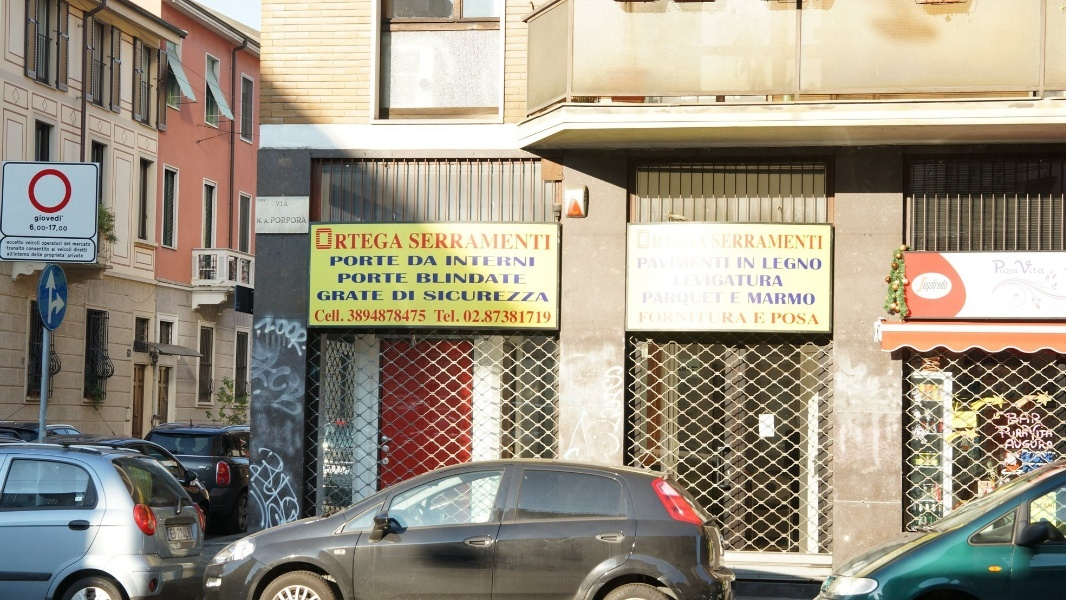text: (257, 426, 272, 549), (273, 426, 288, 549), (289, 426, 304, 549), (305, 426, 320, 549), (257, 328, 272, 434), (273, 328, 288, 434), (289, 328, 304, 434), (248, 426, 256, 549), (257, 308, 272, 363), (273, 308, 288, 363), (289, 308, 304, 363), (249, 328, 256, 434), (305, 328, 311, 434), (321, 426, 325, 549), (417, 233, 432, 252), (433, 233, 448, 252), (449, 233, 464, 252), (465, 233, 480, 252), (481, 233, 496, 252), (497, 233, 512, 252), (513, 233, 528, 252), (529, 233, 544, 252), (17, 240, 32, 259), (33, 240, 48, 259), (49, 240, 64, 259), (65, 240, 80, 259), (337, 233, 352, 251), (353, 233, 368, 251), (369, 233, 384, 251), (385, 233, 400, 251), (993, 259, 1008, 276), (993, 425, 1008, 442), (1009, 425, 1024, 442), (1025, 425, 1040, 442), (657, 233, 672, 250), (673, 233, 688, 250), (689, 233, 704, 250), (721, 233, 736, 250), (737, 233, 752, 250), (753, 233, 768, 250), (769, 233, 784, 250), (785, 233, 800, 250), (801, 233, 816, 250), (1025, 260, 1040, 276), (177, 527, 193, 542), (1041, 425, 1055, 442), (433, 309, 448, 324), (449, 309, 464, 324), (465, 309, 480, 324), (481, 309, 496, 324), (497, 309, 512, 324), (513, 309, 528, 324), (529, 309, 544, 324), (305, 308, 309, 363), (929, 278, 944, 292), (657, 291, 672, 305), (673, 291, 688, 305), (689, 291, 704, 305), (705, 291, 720, 305), (641, 256, 656, 270), (657, 256, 672, 270), (673, 256, 688, 270), (689, 256, 704, 270), (705, 256, 720, 270), (321, 309, 336, 323), (337, 309, 352, 323), (353, 309, 368, 323), (369, 309, 384, 323), (385, 309, 400, 323), (401, 309, 416, 323), (1025, 412, 1041, 425), (642, 291, 656, 305), (1009, 412, 1024, 425), (753, 292, 768, 305), (769, 292, 784, 305), (785, 292, 800, 305), (801, 292, 816, 305), (769, 257, 784, 270), (785, 257, 800, 270), (801, 257, 816, 270), (785, 312, 800, 325), (801, 312, 816, 325), (641, 311, 656, 324), (657, 311, 672, 324), (673, 311, 688, 324), (689, 311, 704, 324), (705, 311, 720, 324), (721, 311, 736, 324), (433, 290, 448, 303), (449, 290, 464, 303), (465, 290, 480, 303), (481, 290, 496, 303), (497, 290, 512, 303), (513, 290, 528, 303), (529, 290, 544, 303), (6, 240, 16, 259), (81, 240, 91, 259), (1009, 439, 1024, 451), (1025, 439, 1040, 451), (1041, 439, 1056, 451), (737, 257, 752, 269), (689, 275, 704, 287), (705, 275, 720, 287), (721, 275, 736, 287), (737, 275, 752, 287), (753, 275, 768, 287), (769, 275, 784, 287), (753, 312, 768, 324), (337, 255, 352, 267), (353, 255, 368, 267), (369, 255, 384, 267), (385, 255, 400, 267), (417, 255, 432, 267), (353, 273, 368, 285), (369, 273, 384, 285), (385, 273, 400, 285), (417, 273, 432, 285), (433, 273, 448, 285), (449, 273, 464, 285), (465, 273, 480, 285), (481, 273, 496, 285), (497, 273, 512, 285), (1013, 260, 1024, 276), (369, 291, 385, 302), (1009, 259, 1019, 276), (771, 312, 784, 325), (674, 275, 688, 287), (338, 273, 352, 285), (513, 273, 527, 285), (449, 256, 464, 267), (465, 256, 480, 267), (481, 256, 496, 267), (497, 256, 512, 267), (513, 256, 528, 267), (321, 291, 336, 302), (337, 291, 352, 302), (353, 291, 368, 302), (401, 290, 415, 301), (408, 233, 416, 252), (737, 311, 748, 324), (417, 309, 427, 323), (712, 233, 720, 250), (167, 527, 176, 542), (545, 233, 552, 252), (422, 290, 432, 303), (721, 256, 730, 270), (49, 215, 64, 223), (33, 224, 48, 232), (49, 224, 64, 232), (257, 217, 272, 225), (273, 217, 288, 225), (289, 217, 304, 225), (34, 215, 48, 223), (254, 308, 256, 363), (545, 309, 552, 324), (817, 233, 823, 250), (408, 255, 416, 267), (401, 273, 409, 285), (392, 290, 400, 301), (730, 291, 736, 305), (275, 201, 288, 207), (677, 365, 688, 372), (401, 233, 405, 251), (330, 255, 336, 267), (433, 255, 439, 267), (737, 291, 742, 305), (315, 309, 320, 323), (652, 233, 656, 250), (529, 256, 535, 267), (1003, 412, 1008, 425), (747, 292, 752, 305), (763, 257, 768, 270), (817, 257, 822, 270), (545, 290, 550, 303), (1041, 260, 1045, 276), (257, 198, 272, 202), (924, 278, 928, 292), (945, 278, 949, 292), (721, 291, 725, 305), (705, 233, 708, 250), (1004, 439, 1008, 451), (316, 291, 320, 302), (637, 256, 640, 270), (817, 312, 820, 325), (334, 233, 336, 251), (445, 256, 448, 267), (29, 224, 32, 232), (65, 224, 68, 232), (753, 257, 755, 269), (305, 217, 308, 225), (991, 259, 992, 276), (639, 311, 640, 324), (689, 365, 690, 372)
